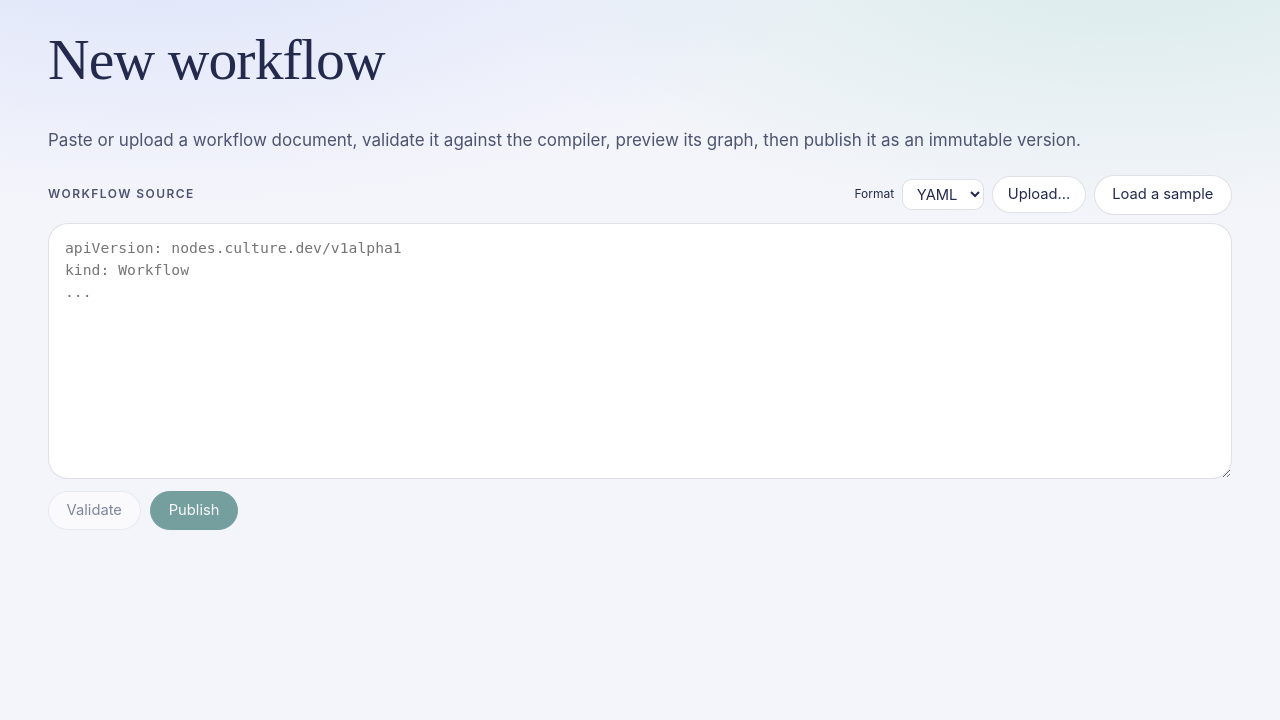
it: AuthorWorkflow: publish › renders the returned digest after a successful publish
Type "apiVersion: nodes.culture.dev/v1alpha1 kind: Workflow metadata:   name: hand-authored   version: 1.0.0   ownerRef: team/platform-ai spec:   entry: greet   nodes:     greet:       kind: agent       own" into the text box labelled "Workflow source" at [640, 351], box [48,223,1232,479]
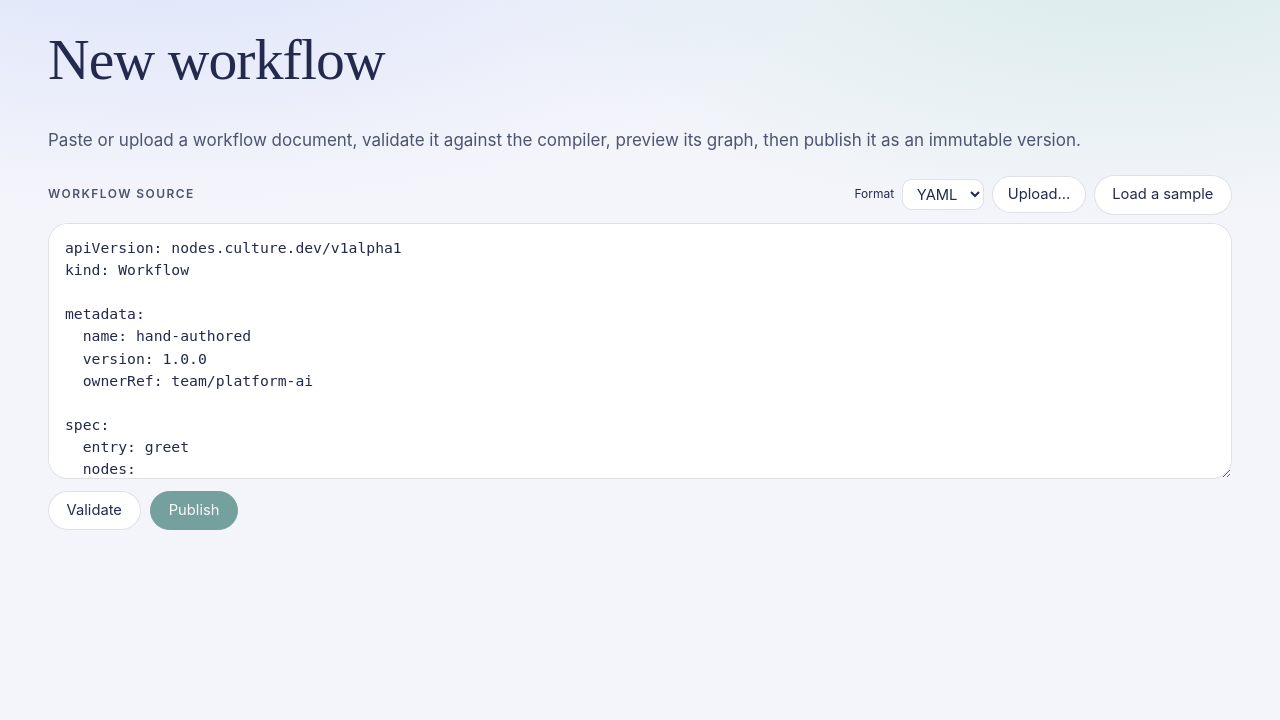
Click the button "Validate" at [94, 510], box [48,491,140,530]
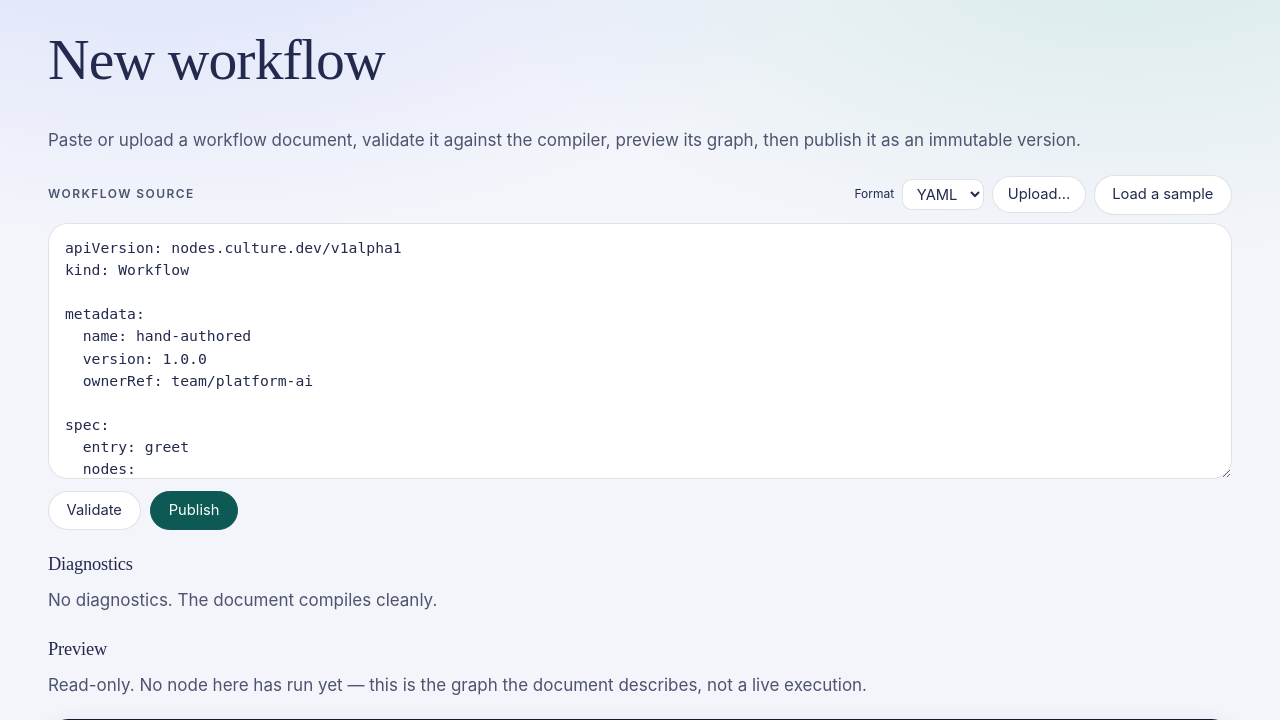
Result: the button "Publish" is enabled
Click the button "Publish" at [194, 510], box [150,491,238,530]
(page scrolled)
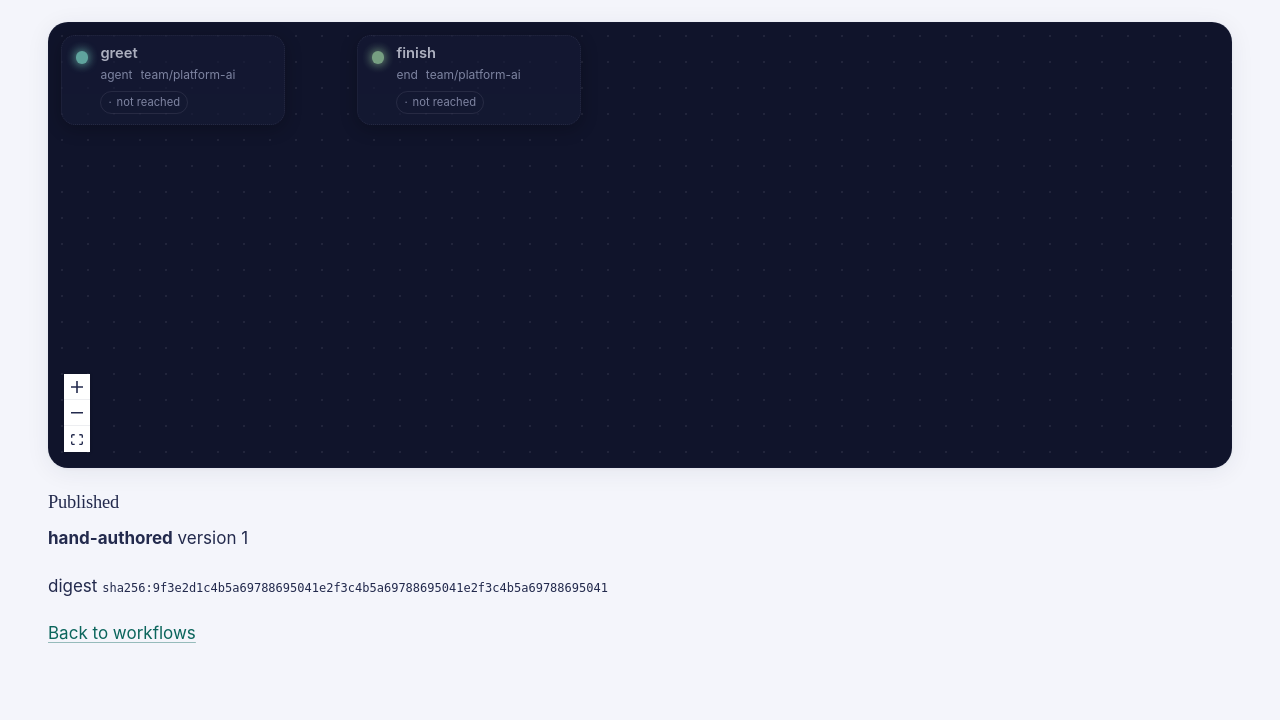
Result: the text "sha256:9f3e2d1c4b5a69788695041e2f3c4b5a69788695041e2f3c4b5a69788695041" is shown at [102,581,608,595]
